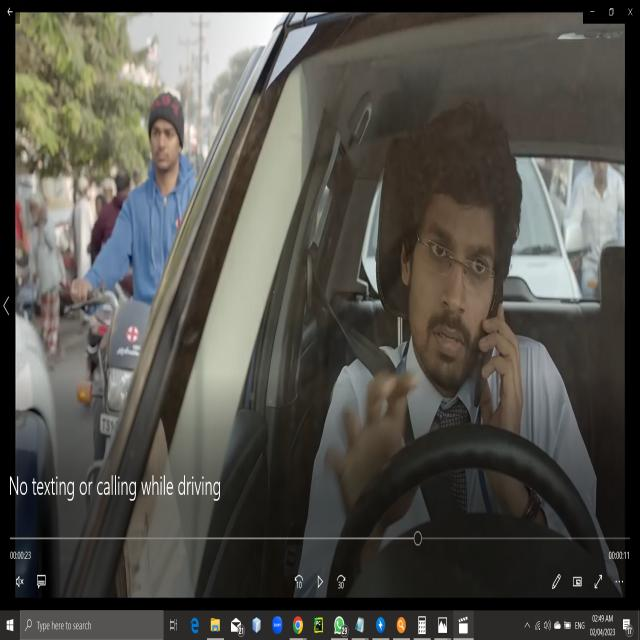using_phone: (450, 273, 536, 422), (130, 63, 210, 222)
